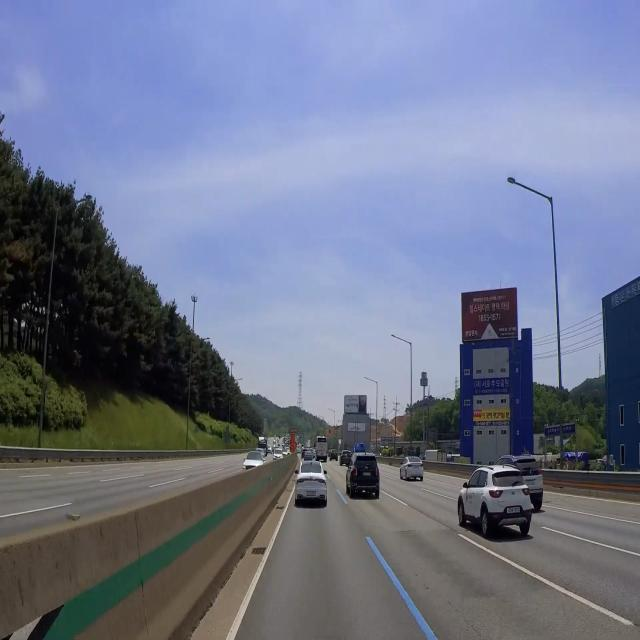car: (502, 503, 527, 518), (302, 487, 322, 505), (522, 472, 540, 490), (363, 470, 374, 482)
